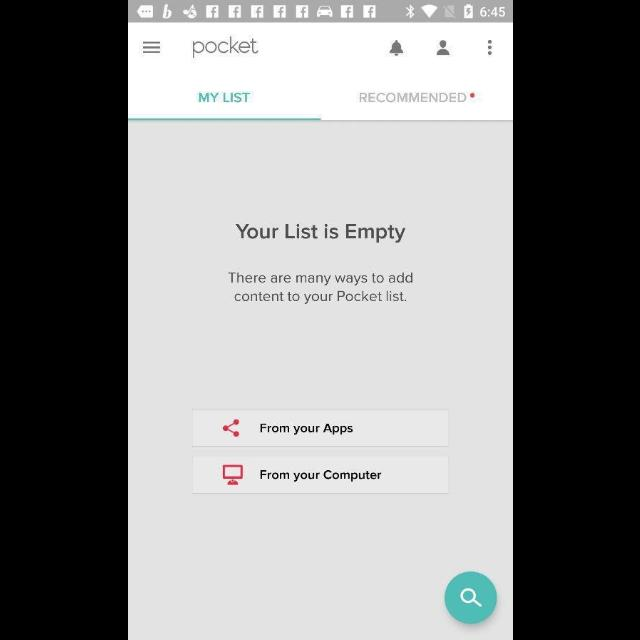button: (444, 572, 496, 624)
icon: (389, 41, 403, 58), (142, 42, 160, 54), (435, 42, 449, 56), (487, 40, 491, 56)
text: (228, 272, 412, 304), (236, 224, 404, 242), (192, 37, 258, 59), (358, 93, 466, 103), (198, 93, 250, 103)
textbutton: (192, 456, 448, 494), (192, 409, 448, 446)
uppertaskbar: (128, 1, 512, 23)
